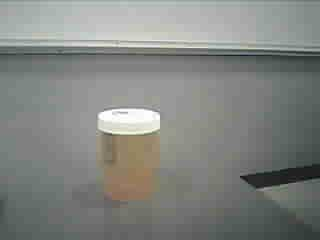Bottle B: (95, 106, 168, 201)
